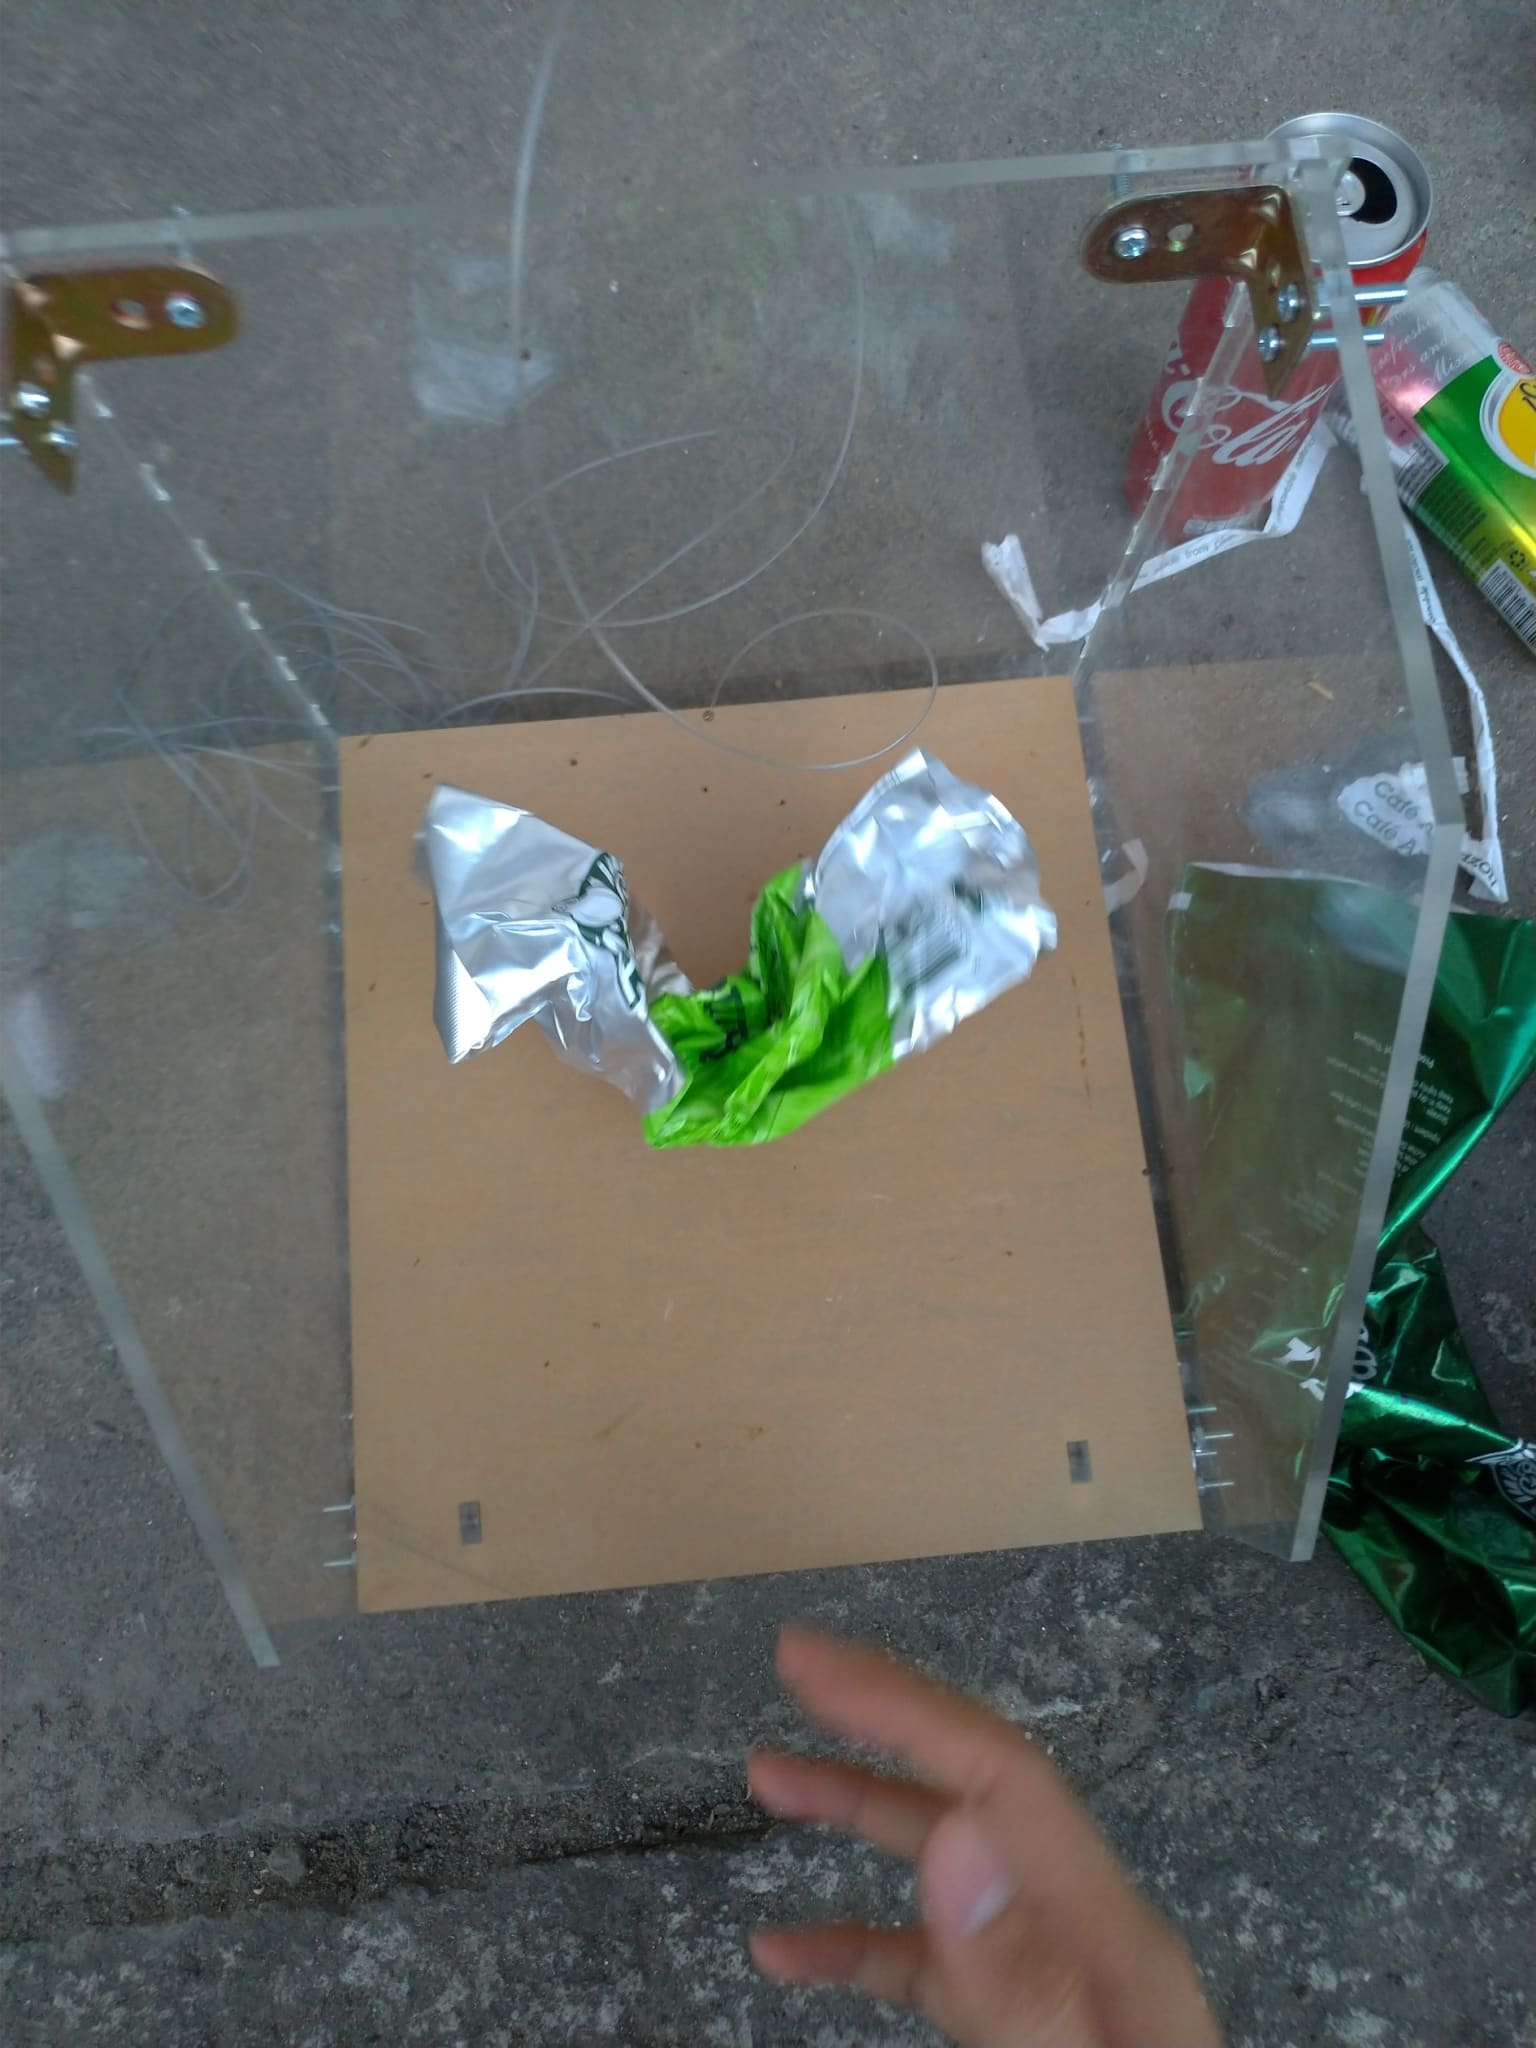AlCan: (1125, 114, 1434, 535), (1357, 273, 1533, 672)
Others: (1150, 855, 1536, 1721), (423, 758, 1060, 1142), (987, 398, 1421, 648), (1338, 484, 1513, 901)
